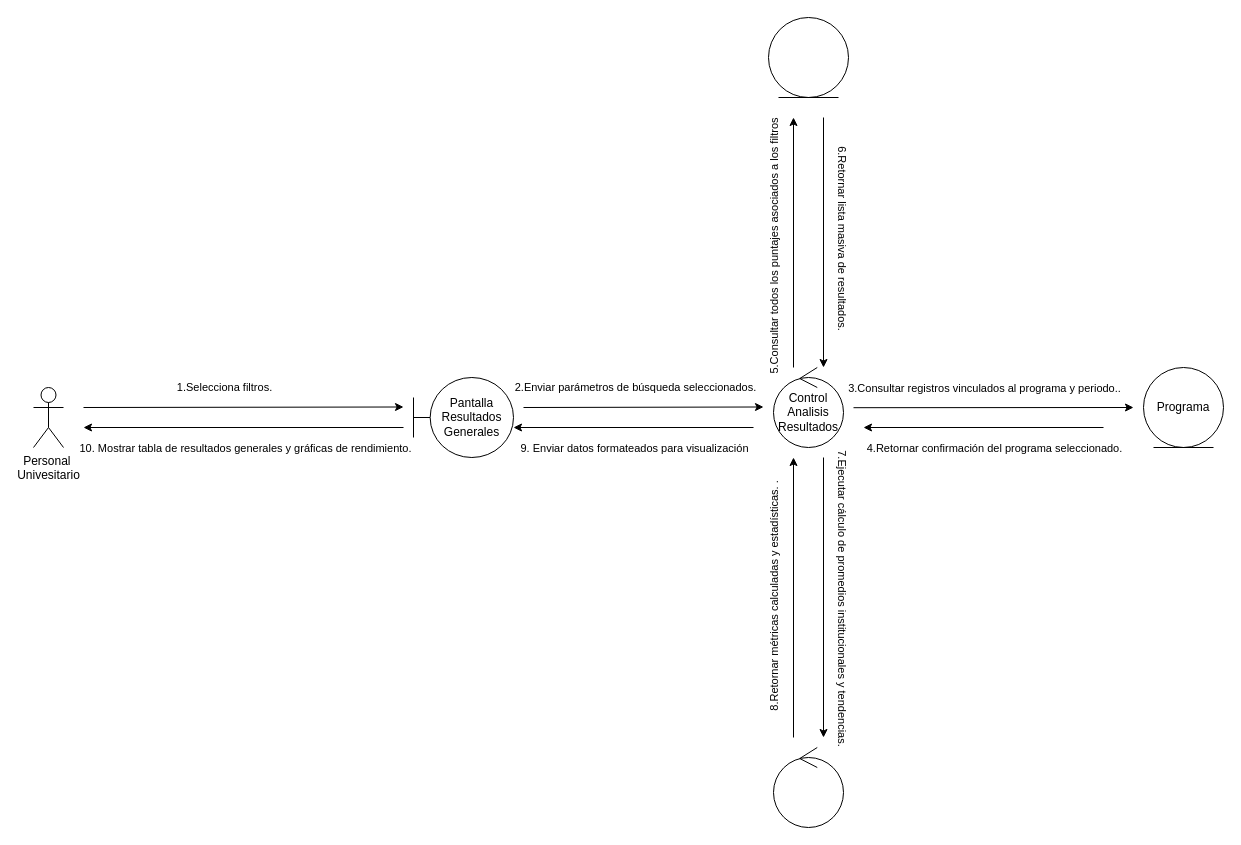
This 1241x845 diagram has some shape labels left out. The centre of each missing label's shape, as x and y in pixels:
"Analizador Estadistico" belongs at (808,787).
"Resultado" belongs at (808,57).
